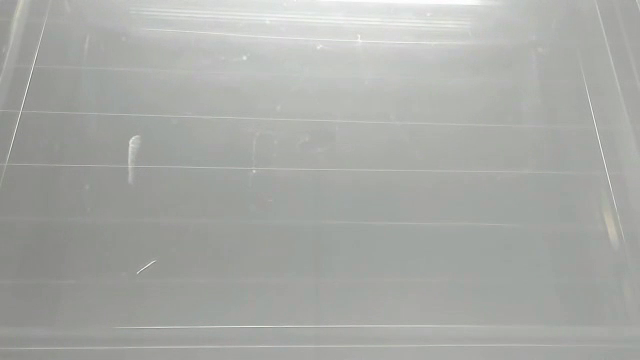alpha: (124, 131, 145, 183)
